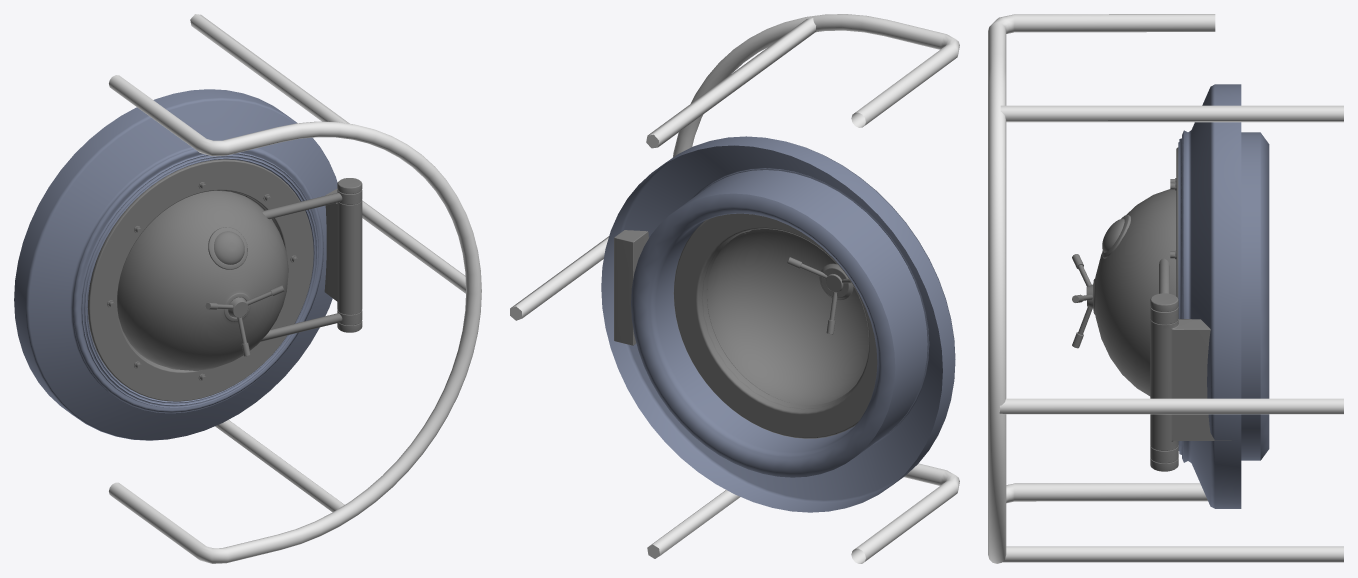
File: DoorToSpace.fbx
3 views of the same model, side by side, from view 1: azimuth 30°, elevation 25°; view 2: azimuth 150°, elevation 25°; view 3: azimuth 270°, elevation 25° (orthographic). The views are drawn at different scales.
Visible parts, largest first — view 1: ToSpaceCapsuleLoading025, ToSpaceCapsuleLoading002, Torus006, ToSpaceCapsuleLoading003, Cylinder598, ToSpaceCapsuleLoading004, Cylinder597, Cylinder596, ToSpaceCapsuleLoading010; view 2: ToSpaceCapsuleLoading025, ToSpaceCapsuleLoading002, Torus006, Cylinder598, ToSpaceCapsuleLoading003, Cylinder596, Cylinder597, ToSpaceCapsuleLoading010; view 3: ToSpaceCapsuleLoading025, Torus006, ToSpaceCapsuleLoading002, ToSpaceCapsuleLoading003, Cylinder598, Cylinder596, Cylinder597, ToSpaceCapsuleLoading004, ToSpaceCapsuleLoading010.
Boxes of the visible parts, x1,y1,x2,y2 form: ToSpaceCapsuleLoading025: (14,89,337,440); ToSpaceCapsuleLoading002: (87,159,313,401); Torus006: (109,75,481,563); ToSpaceCapsuleLoading003: (324,178,362,332); Cylinder598: (190,14,349,123); ToSpaceCapsuleLoading004: (260,189,362,341); Cylinder597: (215,420,344,512); Cylinder596: (337,182,465,293); ToSpaceCapsuleLoading010: (205,285,284,356); ToSpaceCapsuleLoading025: (601,136,955,512); ToSpaceCapsuleLoading002: (673,213,877,438); Torus006: (673,14,959,563); Cylinder598: (646,18,816,148); ToSpaceCapsuleLoading003: (614,230,648,345); Cylinder596: (510,236,608,320); Cylinder597: (647,490,740,558); ToSpaceCapsuleLoading010: (787,257,851,334); ToSpaceCapsuleLoading025: (1178,84,1269,508); Torus006: (988,14,1215,563); ToSpaceCapsuleLoading002: (1093,147,1178,396); ToSpaceCapsuleLoading003: (1150,293,1231,471); Cylinder598: (1000,105,1343,122); Cylinder596: (999,398,1343,414); Cylinder597: (1002,546,1343,562); ToSpaceCapsuleLoading004: (1150,258,1178,463); ToSpaceCapsuleLoading010: (1072,254,1093,348).
Size of the model in its own units: 217 by 243 by 161.
